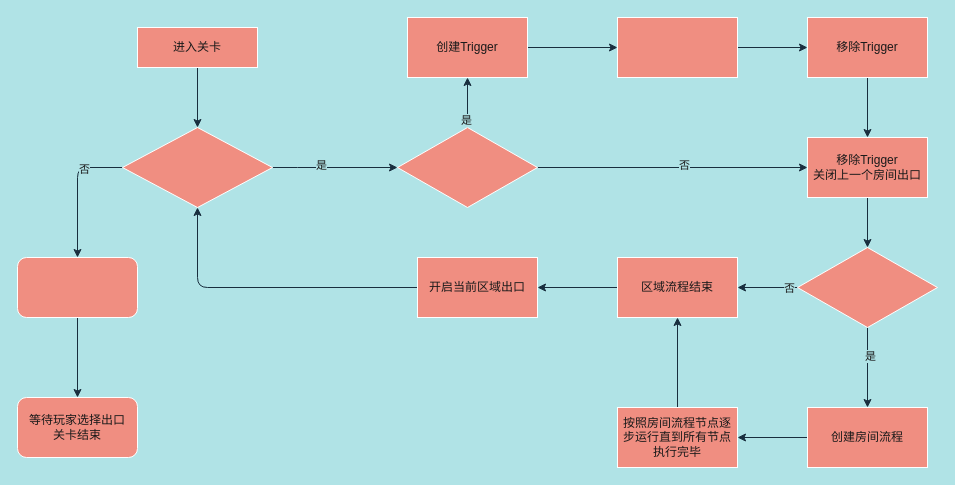
Image size: 955x485. Some labels were removed from this diagram. The shapes that lost their labels are listed below. From the top down, each one's centre as x and y in pixels, then its label:
(x=677, y=47): 等待玩家进入Trigger
(x=197, y=167): 检查是否有未完成的区域
(x=467, y=167): 检查是否有Trigger
(x=77, y=287): 显示关卡奖励
(x=867, y=287): 检查是否有房间流程配置
